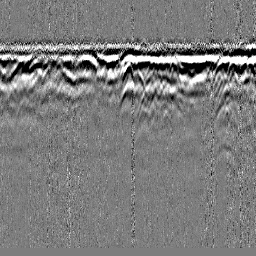cavity: (122, 60, 134, 81)
